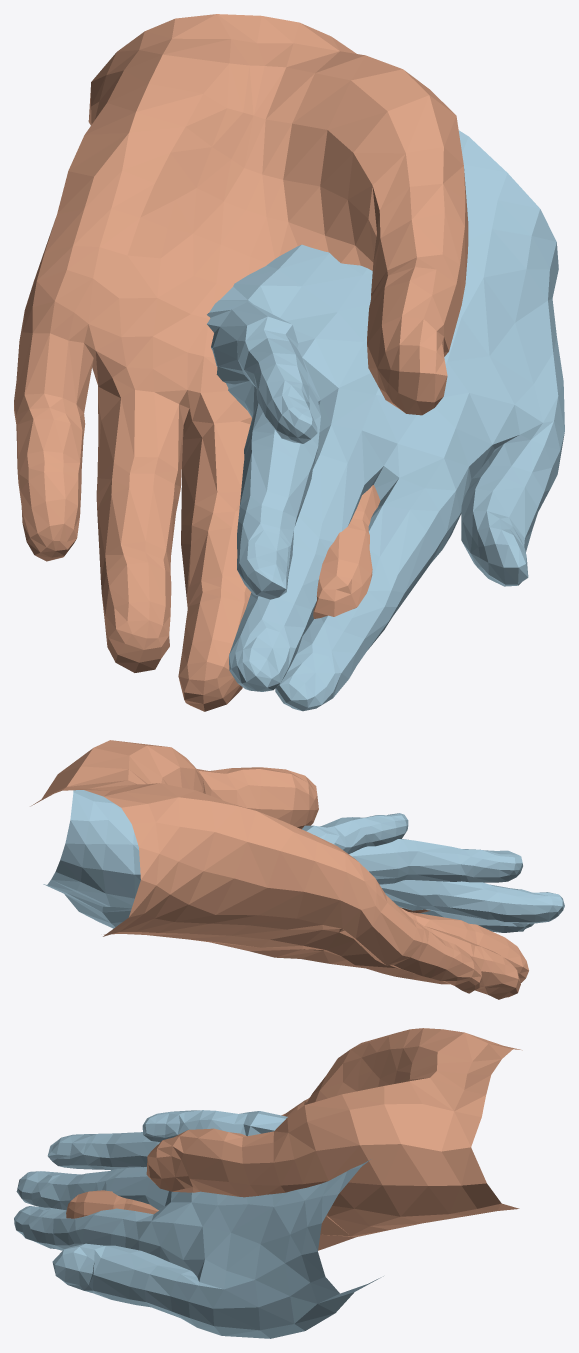
The model's file is frame_009.glb.
3 views of the same model, one above another, from view 1: azimuth 30°, elevation 25°; view 2: azimuth 150°, elevation 25°; view 3: azimuth 270°, elevation 25° (orthographic). The views are drawn at different scales.
Parts seen in each view (by area): view 1: world; view 2: world; view 3: world.
Part boxes in pixels (bbox=[...]): world: bbox=[14, 14, 564, 711]; world: bbox=[30, 740, 564, 999]; world: bbox=[14, 1028, 522, 1338].
Bounding box in the file's own units: 0.1459 × 0.0988 × 0.1747.
